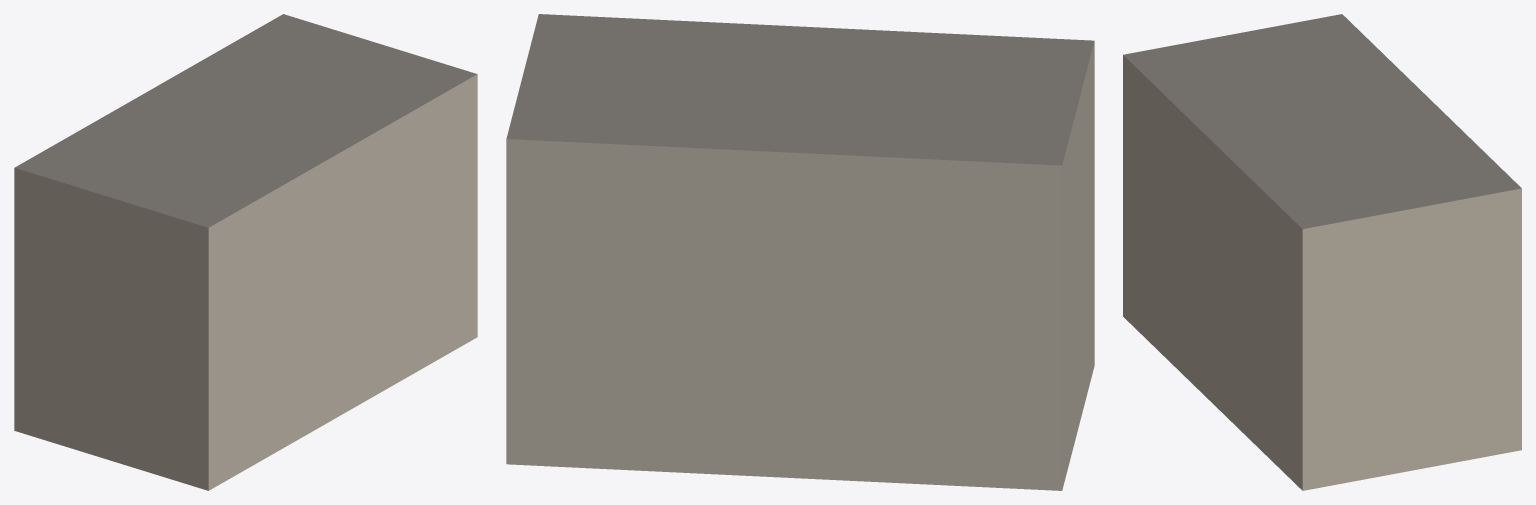
3 renders of one model, left to right at view 1: azimuth 30°, elevation 25°; view 2: azimuth 150°, elevation 25°; view 3: azimuth 270°, elevation 25°, orthographic. The views are drawn at different scales.
Visible parts, largest first — view 1: HP-w475045206; view 2: HP-w475045206; view 3: HP-w475045206.
Part boxes in pixels (bbox=[...]): HP-w475045206: bbox=[14, 14, 477, 490]; HP-w475045206: bbox=[506, 14, 1094, 490]; HP-w475045206: bbox=[1123, 14, 1521, 490].
Size of the model in its own units: 31.73 by 18 by 24.86.
